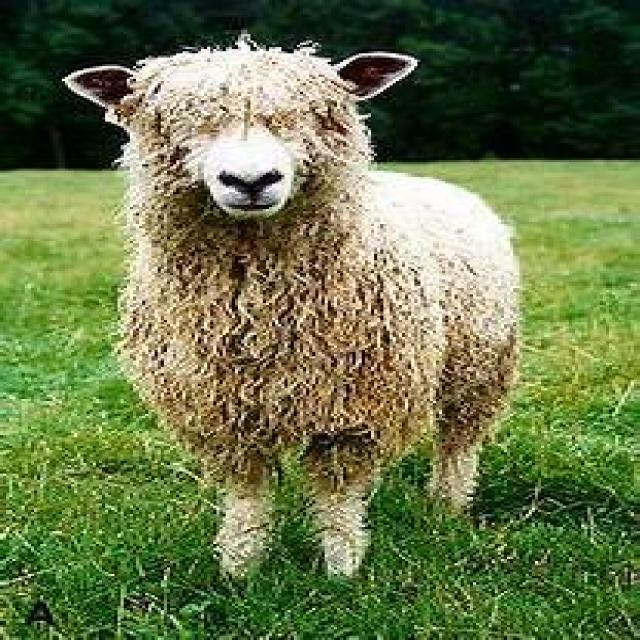sheep: (59, 30, 522, 584)
